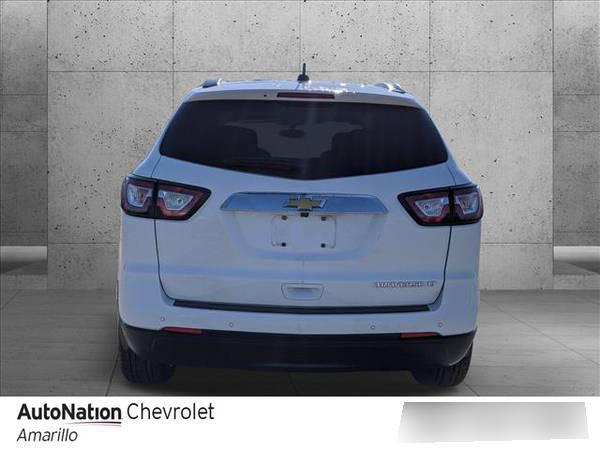Left_Taillight: (119, 177, 211, 221)
Rear_Bumper: (119, 209, 482, 376)
Rear_Windshield: (158, 99, 450, 181)
Right_Taillight: (392, 181, 483, 226)
Roof: (185, 77, 423, 108)
Tailgate: (133, 153, 473, 311)
